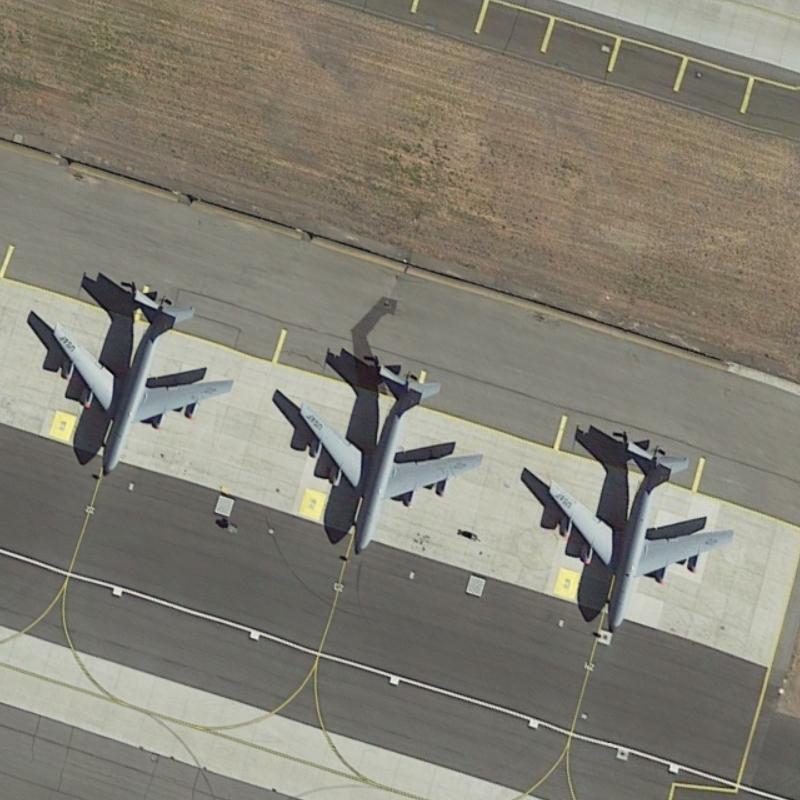A14: (537, 432, 745, 639), (288, 361, 490, 560), (49, 286, 232, 479)
